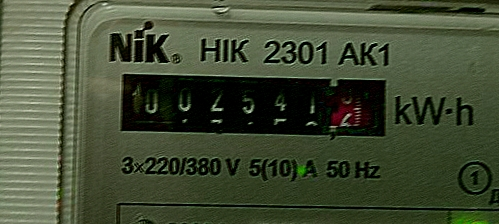0: (175, 83, 195, 117), (144, 88, 162, 117)
1: (303, 85, 320, 118)
2: (206, 83, 228, 118)
4: (272, 85, 290, 116)
5: (240, 86, 257, 119)
6: (337, 110, 354, 132)
screen: (105, 57, 409, 159)
